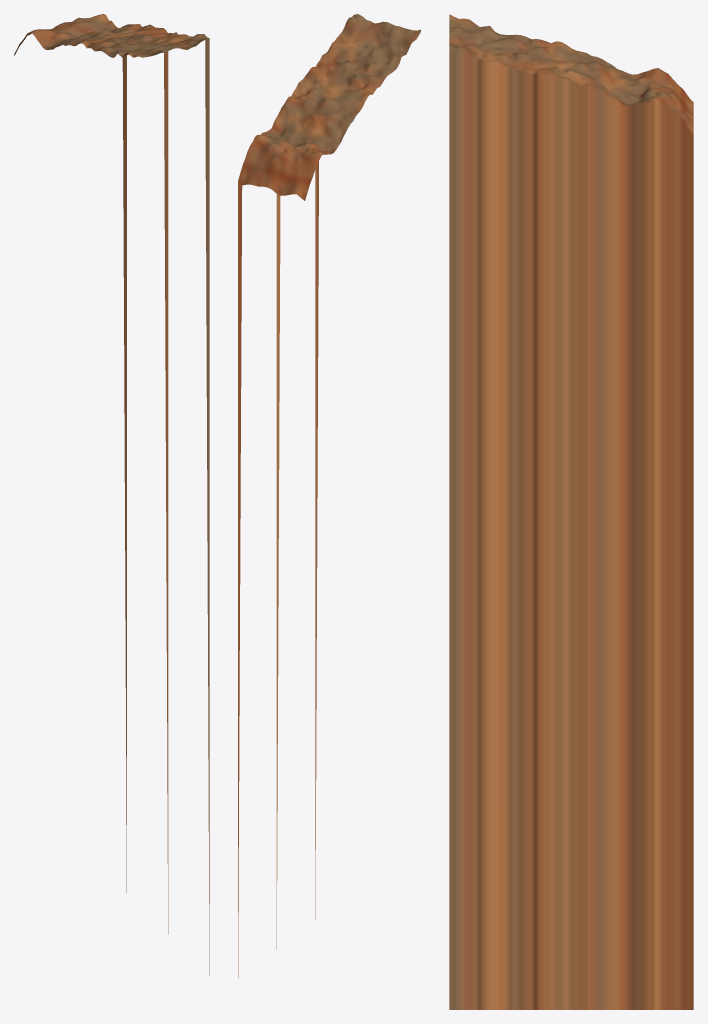
File: terrain-171.glb
3 renders of one model, left to right at view 1: azimuth 30°, elevation 25°; view 2: azimuth 150°, elevation 25°; view 3: azimuth 270°, elevation 25°, orthographic. The views are drawn at different scales.
Visible parts, largest first — view 1: terrain-171; view 2: terrain-171; view 3: terrain-171.
Boxes of the visible parts, <box> form: terrain-171: <box>14,14,209,975</box>; terrain-171: <box>238,14,420,977</box>; terrain-171: <box>449,14,693,1009</box>.
Bounding box in the file's own units: 128 × 1666 × 384.
